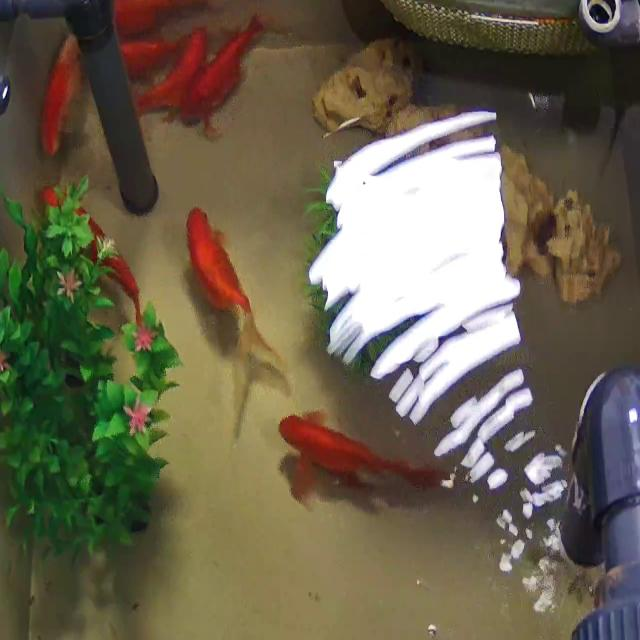fish: (178, 194, 284, 414), (259, 393, 422, 518), (44, 190, 152, 345), (185, 23, 277, 112), (39, 35, 88, 168), (140, 24, 206, 118), (87, 0, 214, 23), (112, 35, 184, 73)
